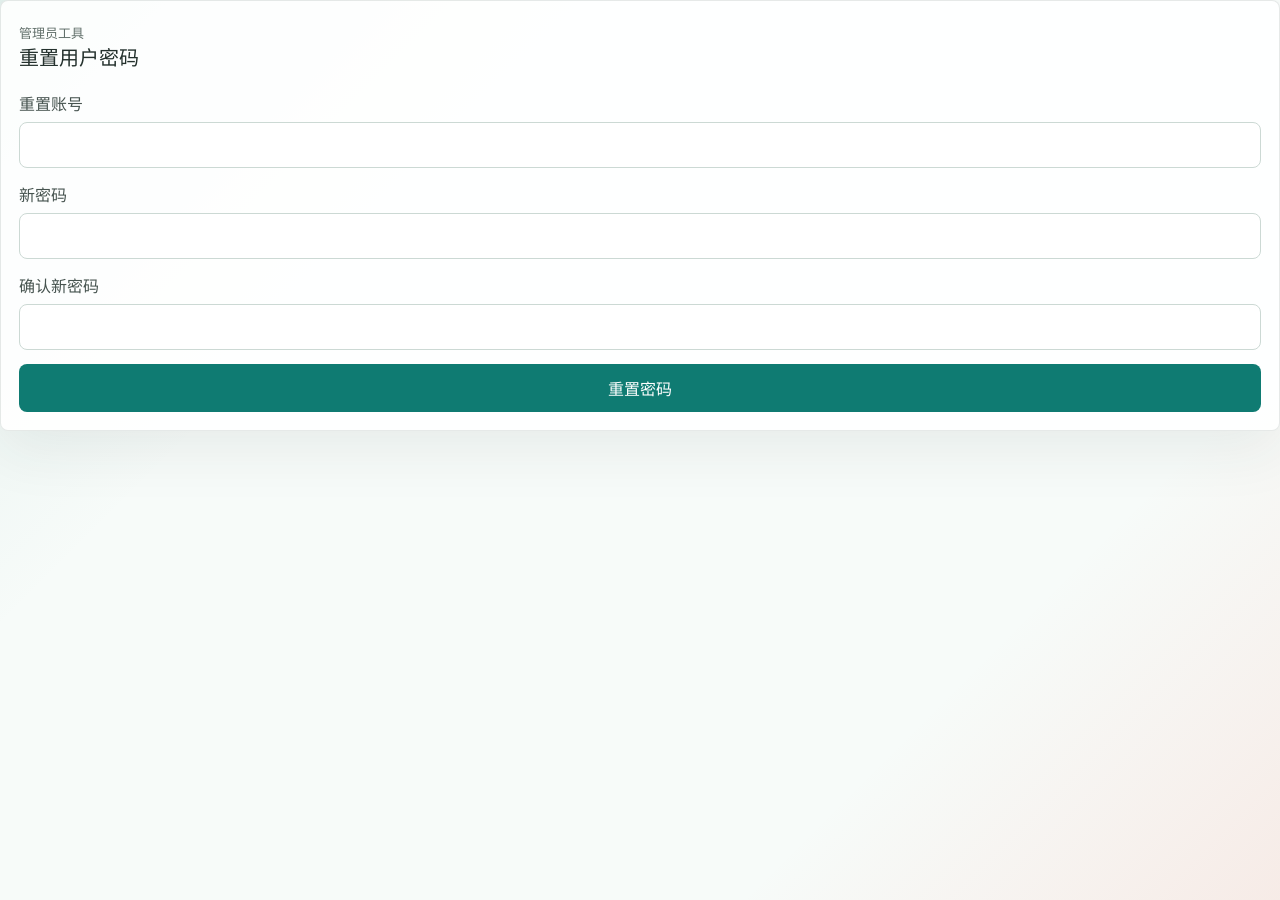
Test: AdminResetPasswordPanel › resets a user password when confirmation matches
This screenshot has width=1280, height=900.
In the field labelled "重置账号": (640, 145) 19,122 -> 1261,168, type "baby_home"
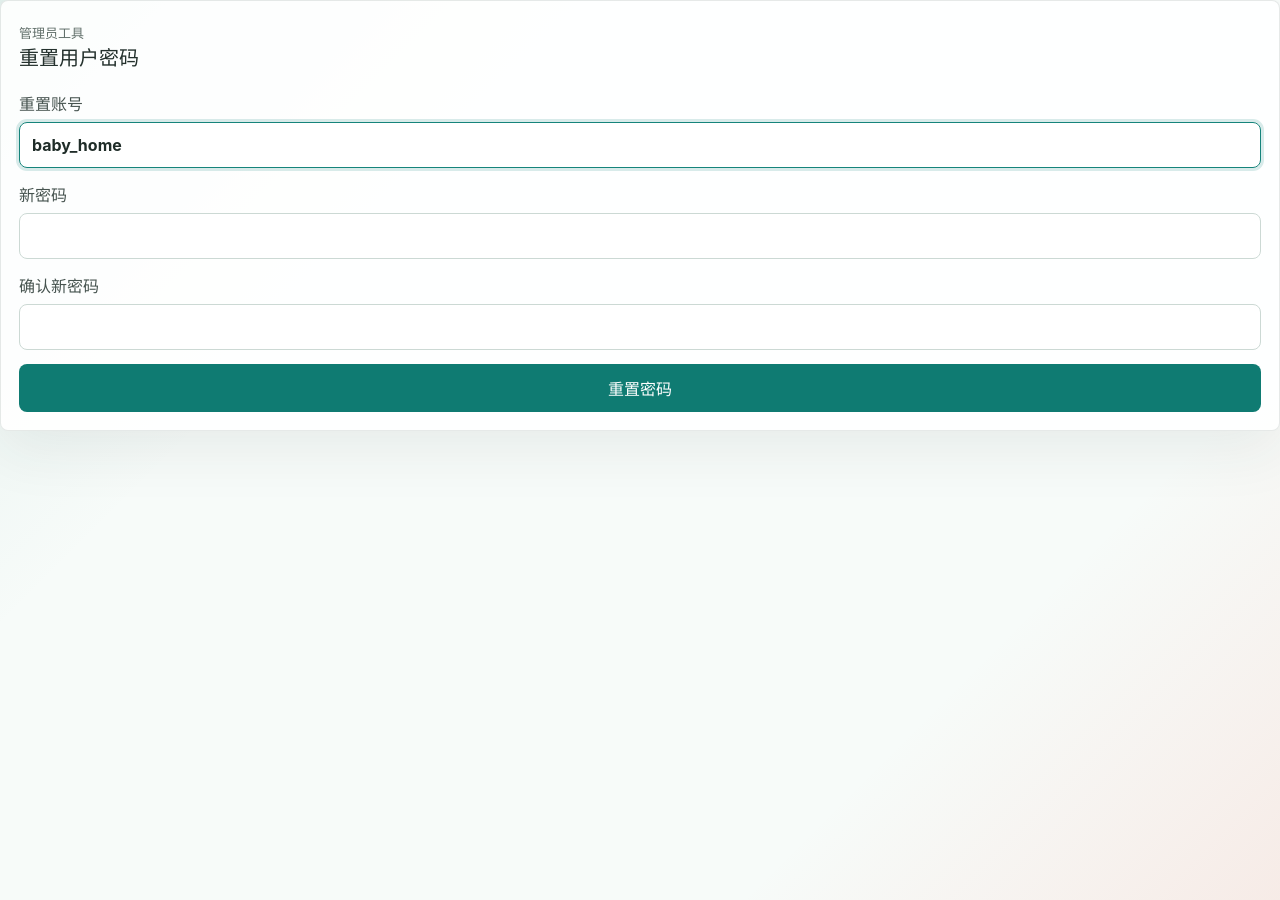
In the password field labelled "新密码": (640, 236) 19,213 -> 1261,259, type "newpass123"
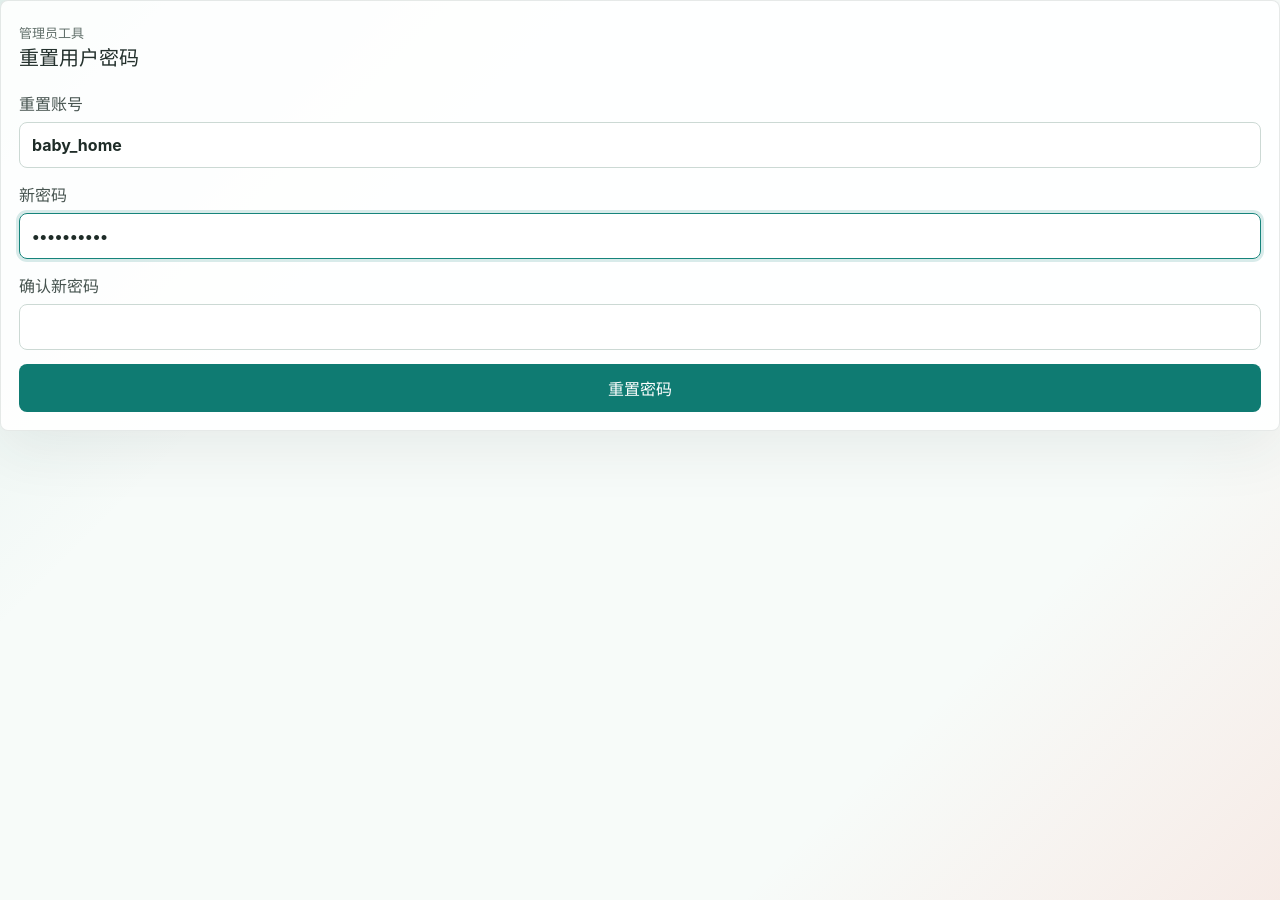
In the password field labelled "确认新密码": (640, 327) 19,304 -> 1261,350, type "newpass123"
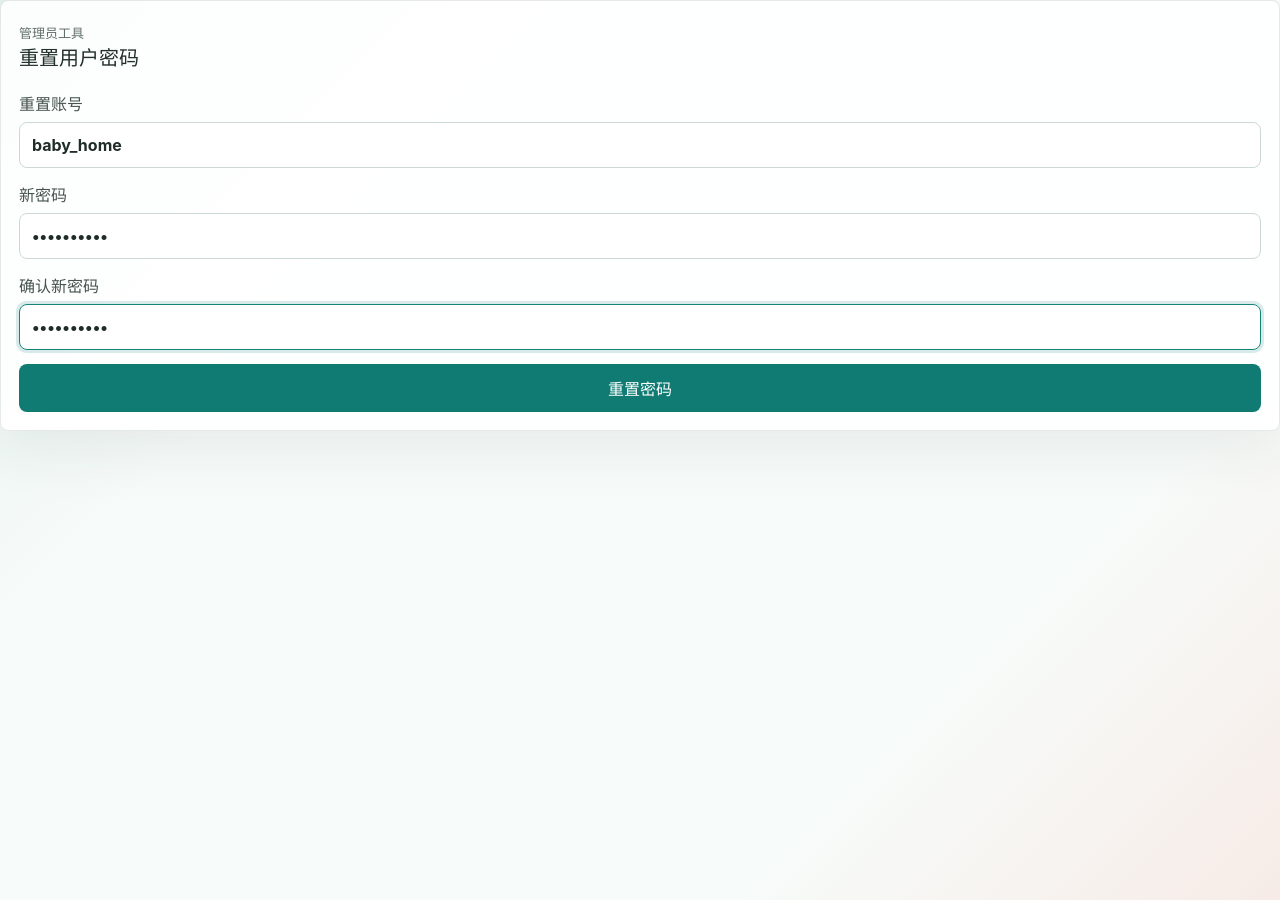
Click the button "重置密码": (640, 388) 19,364 -> 1261,412
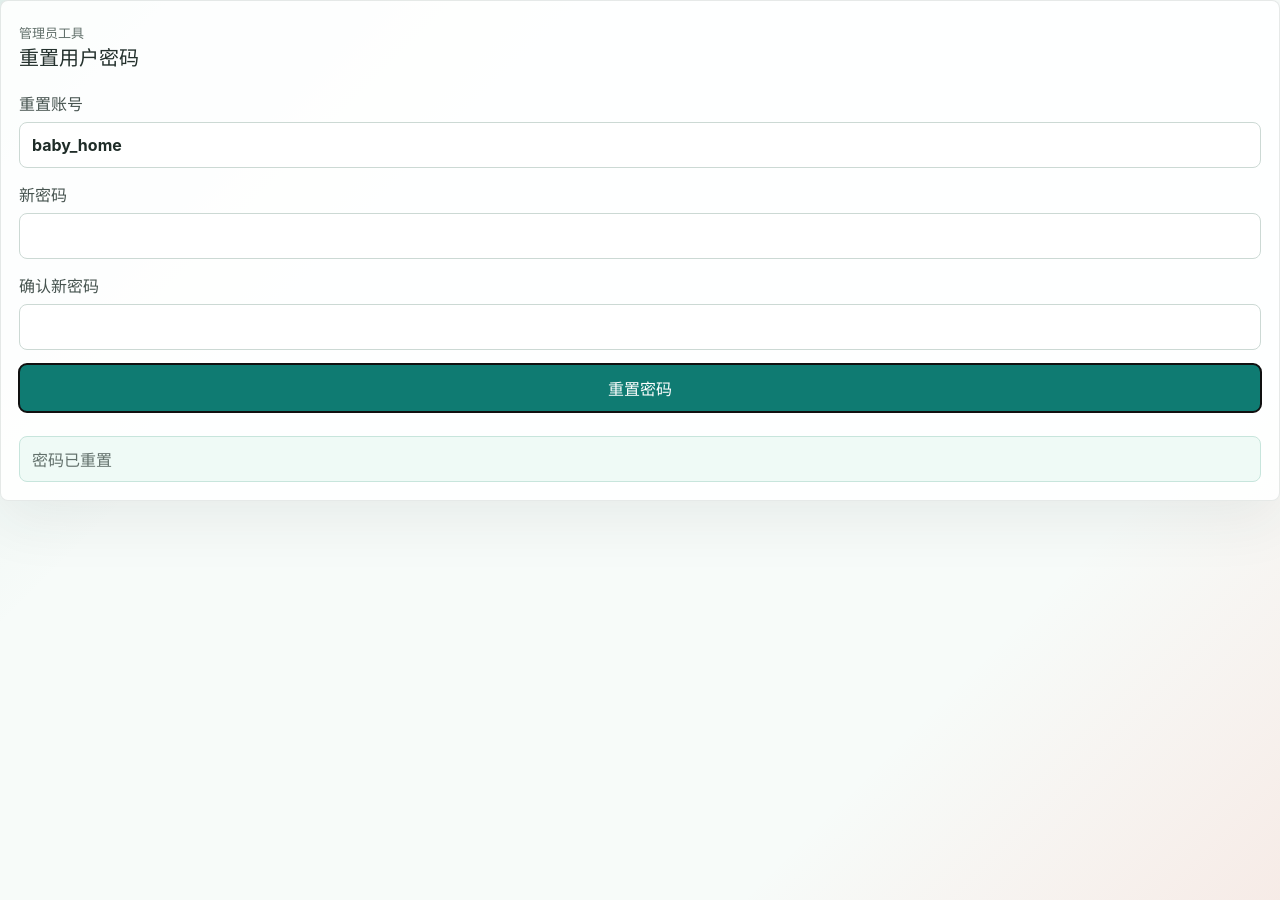
Now the text "密码已重置" is shown, box 19,436 -> 1261,482
